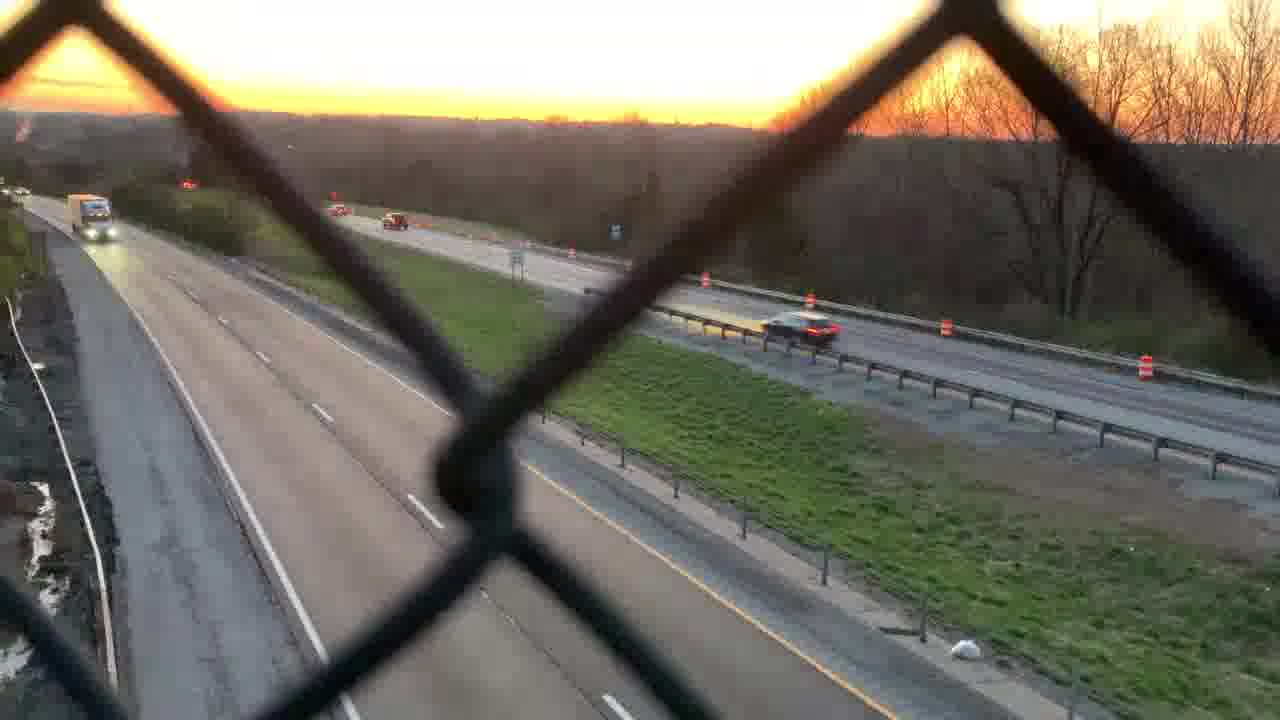heavyTruck: (62, 191, 122, 242)
largeCar: (757, 303, 839, 344)
vehicle: (378, 212, 410, 231), (318, 199, 354, 213)
